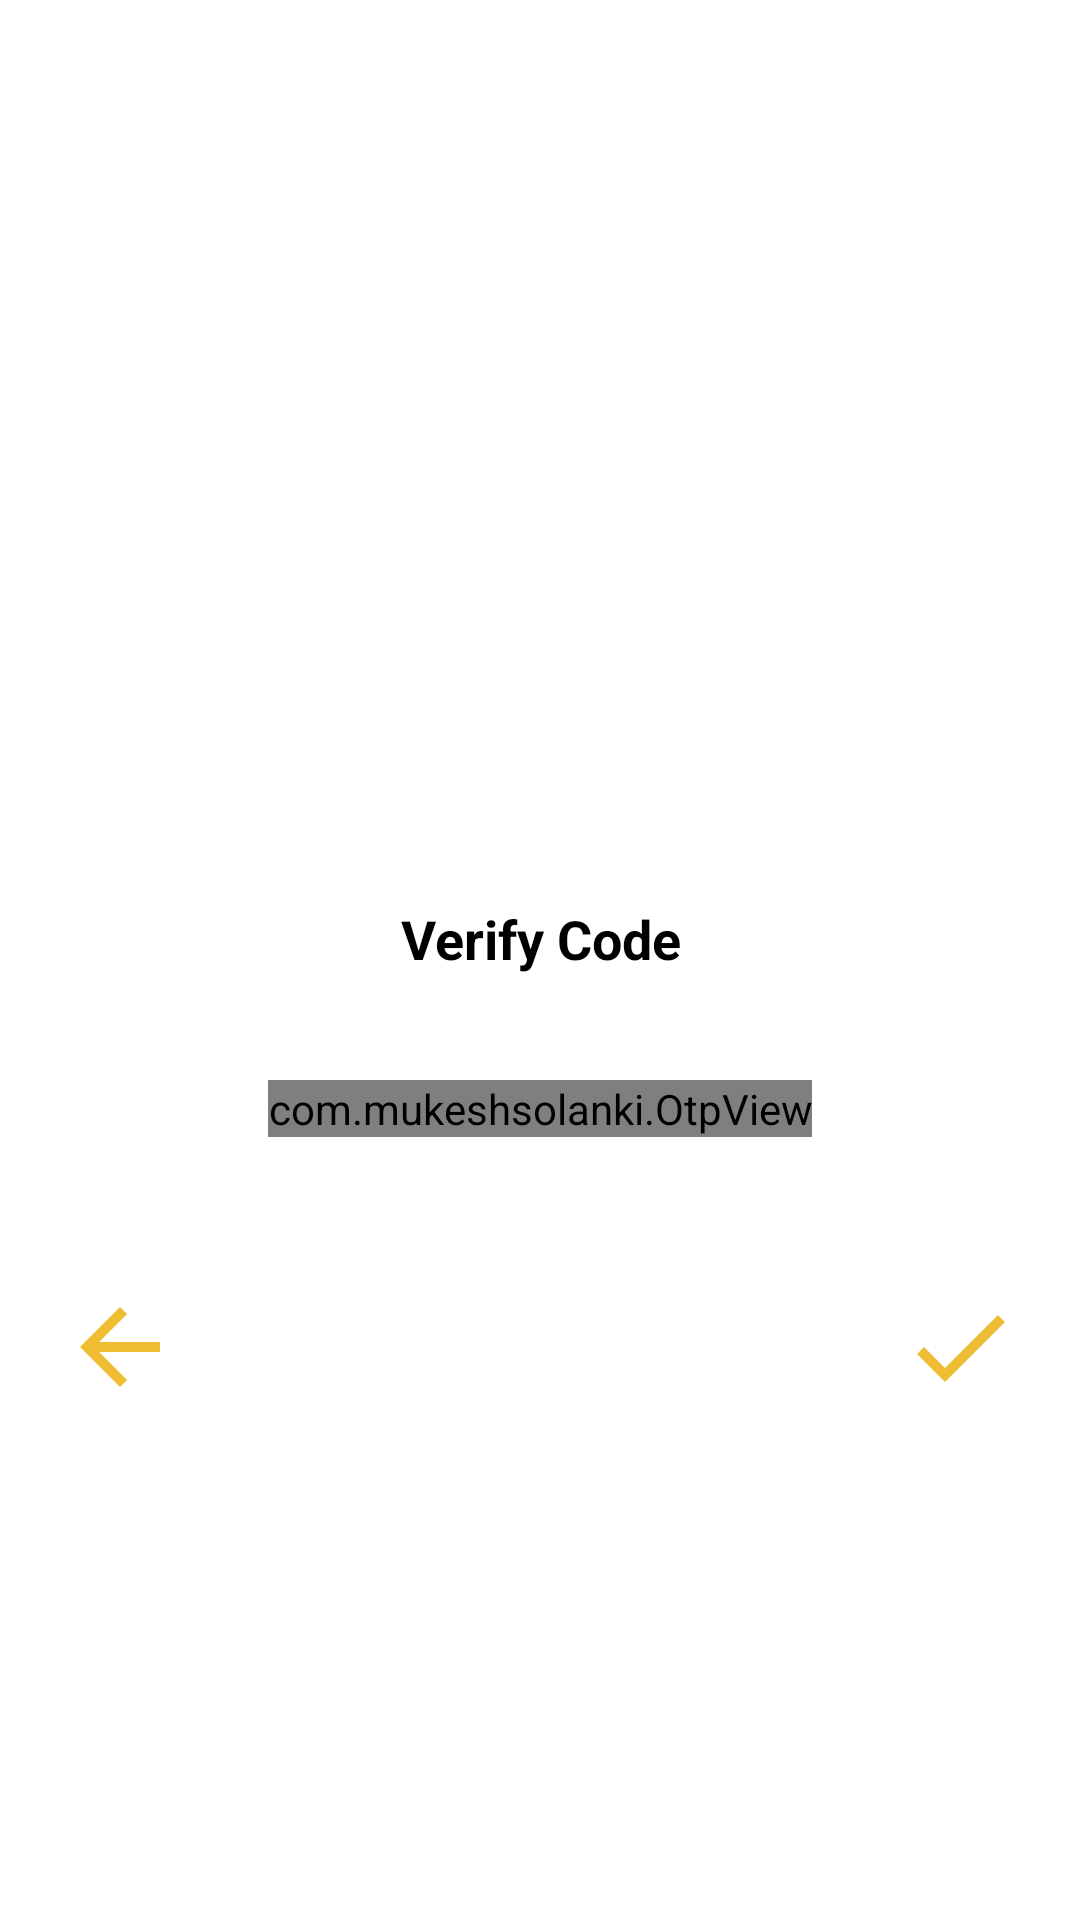

Icon click points for this 1080w x 1920h phone screenshot, format (x=x, y=y):
arrow back: (x=120, y=1347)
done: (x=961, y=1348)
